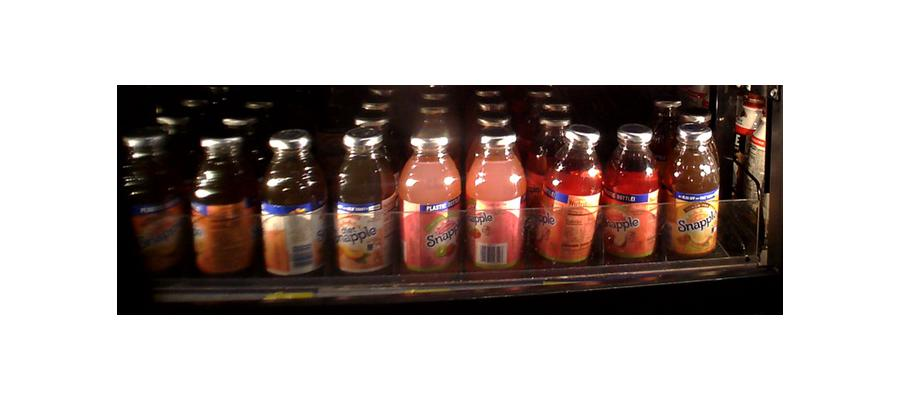bottle: (260, 128, 327, 279), (535, 122, 602, 266), (334, 124, 393, 279), (123, 132, 187, 274), (193, 134, 255, 278), (401, 130, 462, 274), (602, 119, 662, 264), (466, 129, 523, 270), (668, 118, 720, 258)
